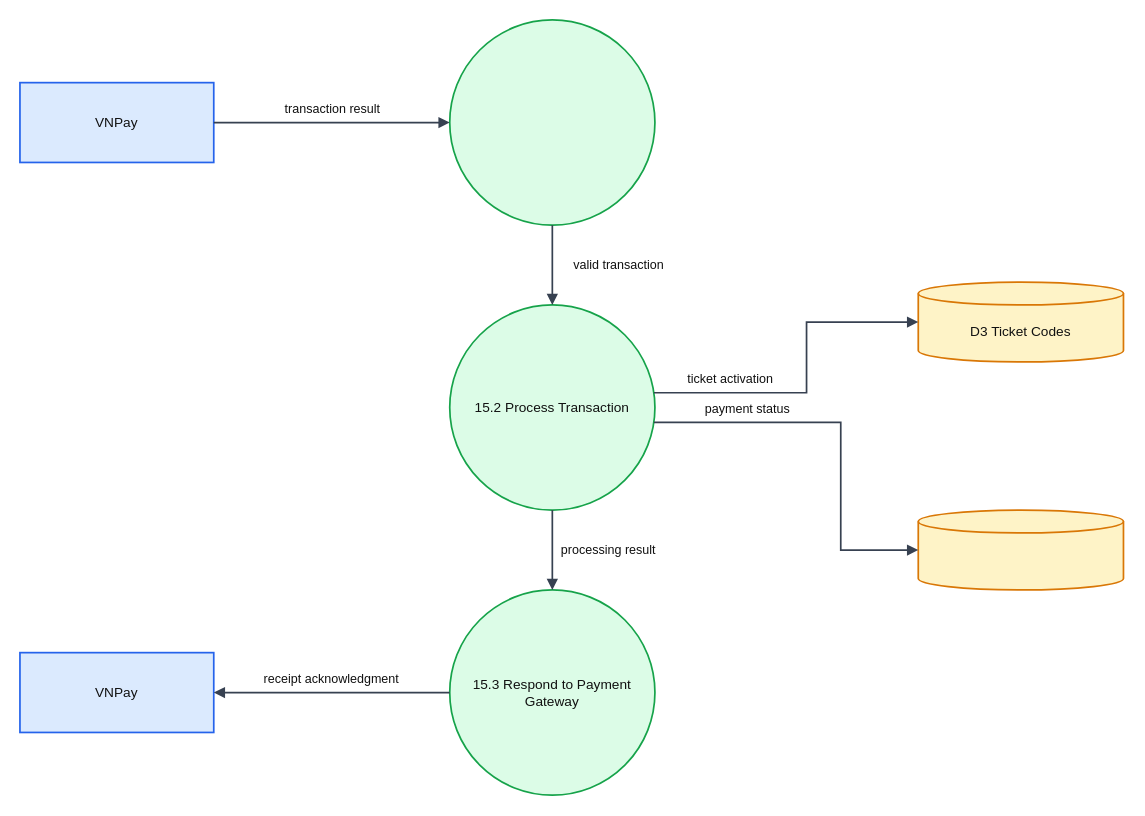
This 1145x816 diagram has some shape labels left out. Here are the shapes that lost their labels. From the top down, the box of each, then its label:
(448, 19, 655, 225): 15.1 Verify Payment Callback
(917, 509, 1124, 590): D2 Stores
